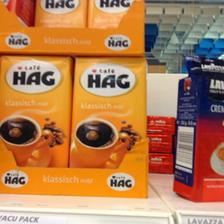Kaffee: (70, 54, 146, 166), (0, 54, 68, 168), (173, 52, 223, 204)
